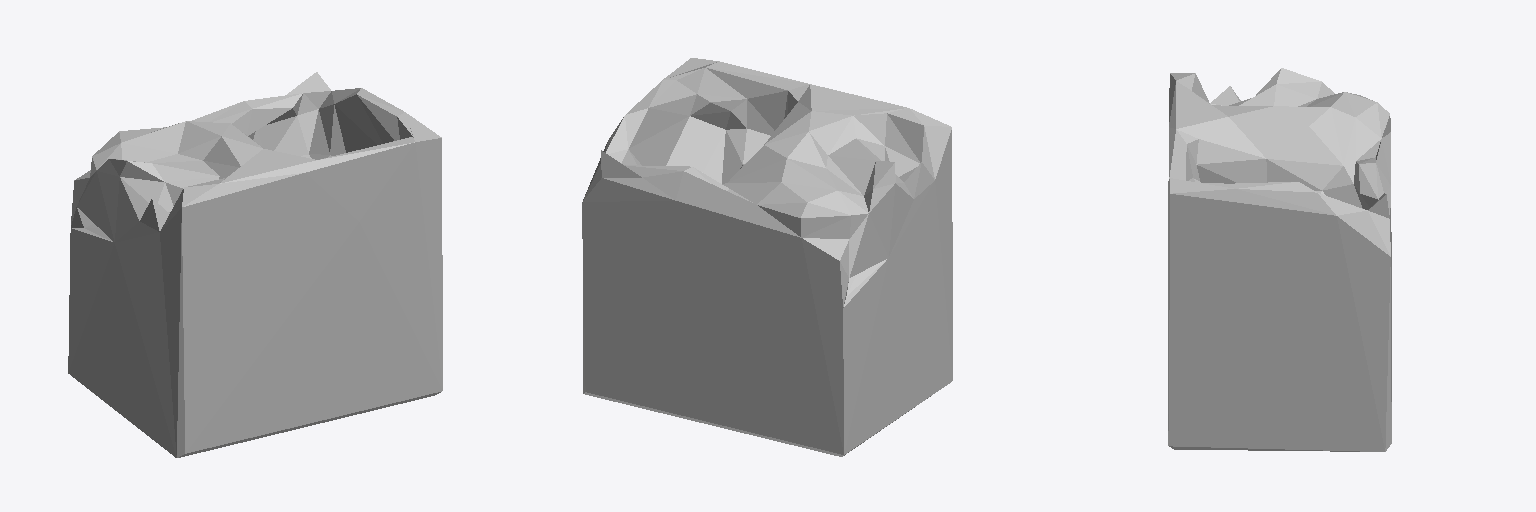
The picture shows the model from 3 angles: view 1: azimuth 30°, elevation 25°; view 2: azimuth 150°, elevation 25°; view 3: azimuth 270°, elevation 25°; orthographic projection.
Visible parts, largest first — view 1: Liquid_Domain; view 2: Liquid_Domain; view 3: Liquid_Domain.
Boxes of the visible parts, x1,y1,x2,y2 form: Liquid_Domain: [68, 72, 442, 457]; Liquid_Domain: [582, 58, 952, 456]; Liquid_Domain: [1168, 68, 1391, 451].
Bounding box in the file's own units: 16.96 × 16.2 × 12.43.